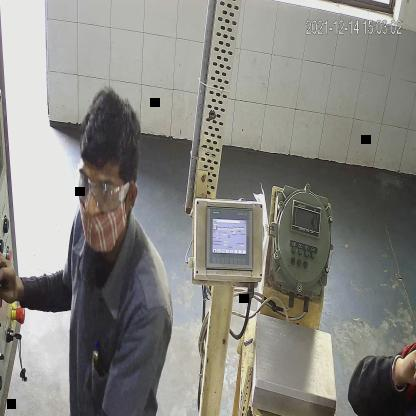goggles: (72, 163, 130, 209)
